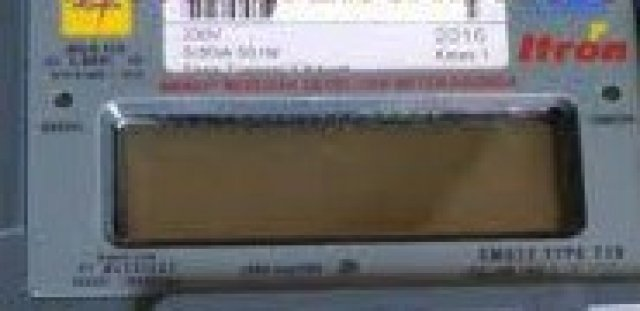box: (117, 117, 570, 237)
